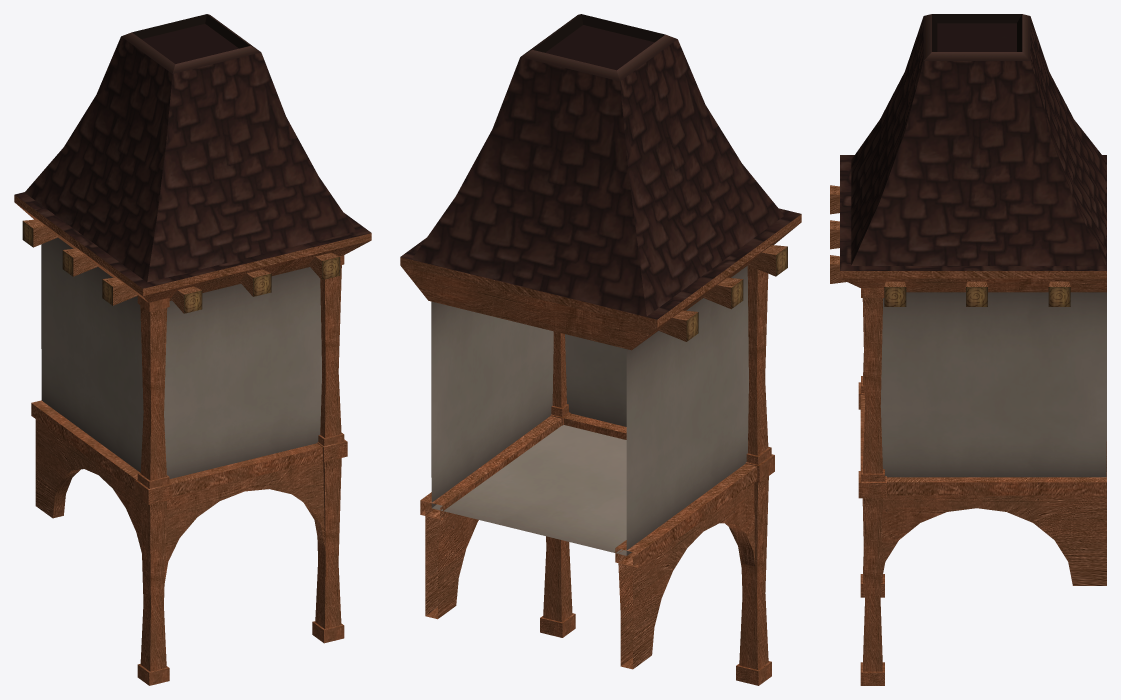
The model's file is fanasty_mod_extention_piece_E.fbx.
The picture shows the model from 3 angles, left to right: view 1: azimuth 30°, elevation 25°; view 2: azimuth 150°, elevation 25°; view 3: azimuth 270°, elevation 25°; orthographic projection. The views are drawn at different scales.
Visible parts, largest first — view 1: extention_piece_E; view 2: extention_piece_E; view 3: extention_piece_E.
Boxes of the visible parts, x1=… form: extention_piece_E: x1=14, y1=14, x2=371, y2=685; extention_piece_E: x1=400, y1=14, x2=801, y2=685; extention_piece_E: x1=830, y1=14, x2=1106, y2=685.
Size of the model in its own units: 4.58 by 10.33 by 4.29.
